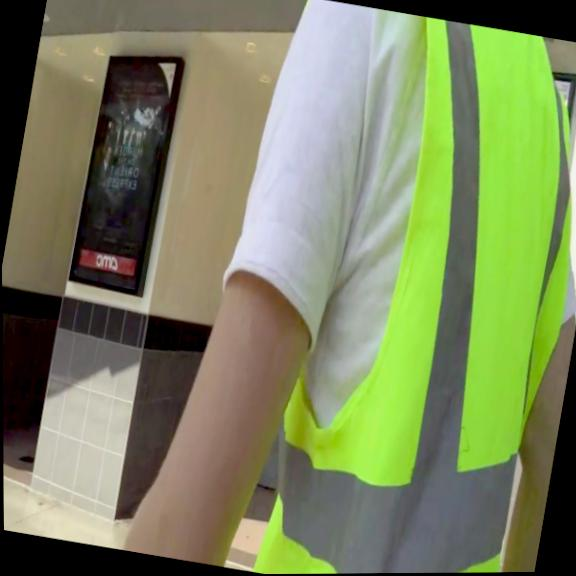safety_vest: (205, 0, 576, 574)
